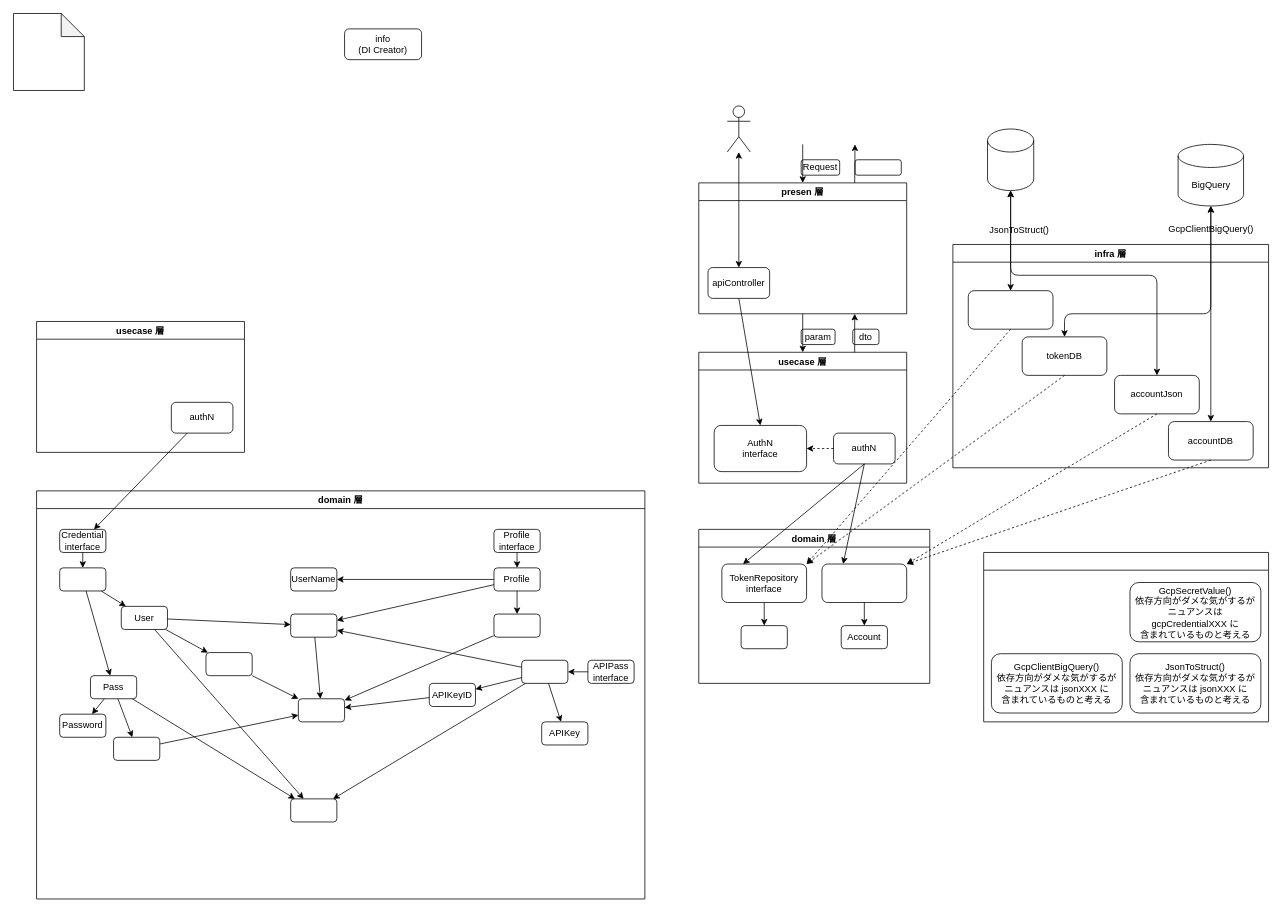
This 1282x912 diagram has some shape labels left out. Each missing label, with the box of its shape:
AccountID (変更不可): (290, 613, 337, 637)
AccountRepository interface: (821, 563, 907, 603)
APIPass: (521, 660, 568, 683)
Console: (726, 105, 750, 152)
Credential: (59, 567, 106, 591)
Date: (290, 798, 337, 822)
ID: (298, 698, 345, 722)
JSON: (987, 128, 1034, 191)
PassID (変更可): (113, 737, 160, 760)
ProfileID: (493, 613, 540, 637)
Response: (854, 159, 901, 175)
Service : info Context : authN: (13, 13, 84, 90)
Share(環境変数的な概念として infra 層にある): (983, 552, 1269, 722)
Token: (740, 625, 787, 649)
tokenJson: (968, 290, 1053, 329)
UserID (変更可): (205, 652, 252, 676)
